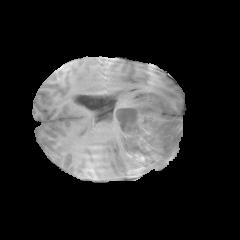glioma: (111, 90, 182, 179)
